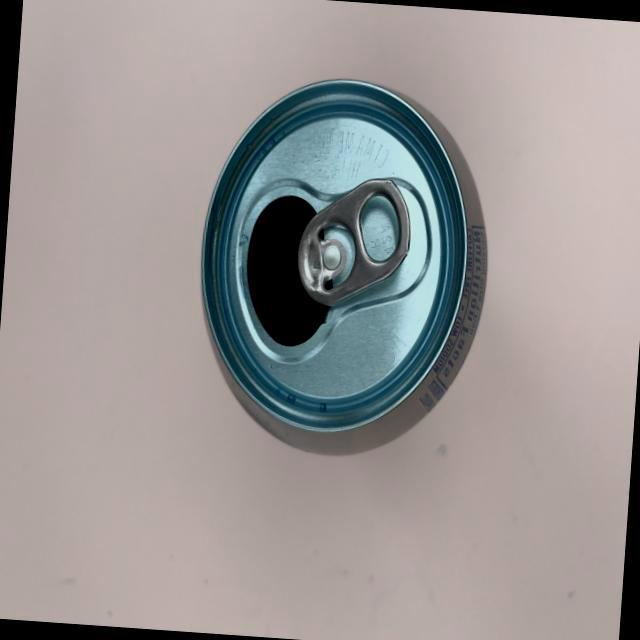metal: (160, 39, 510, 492)
